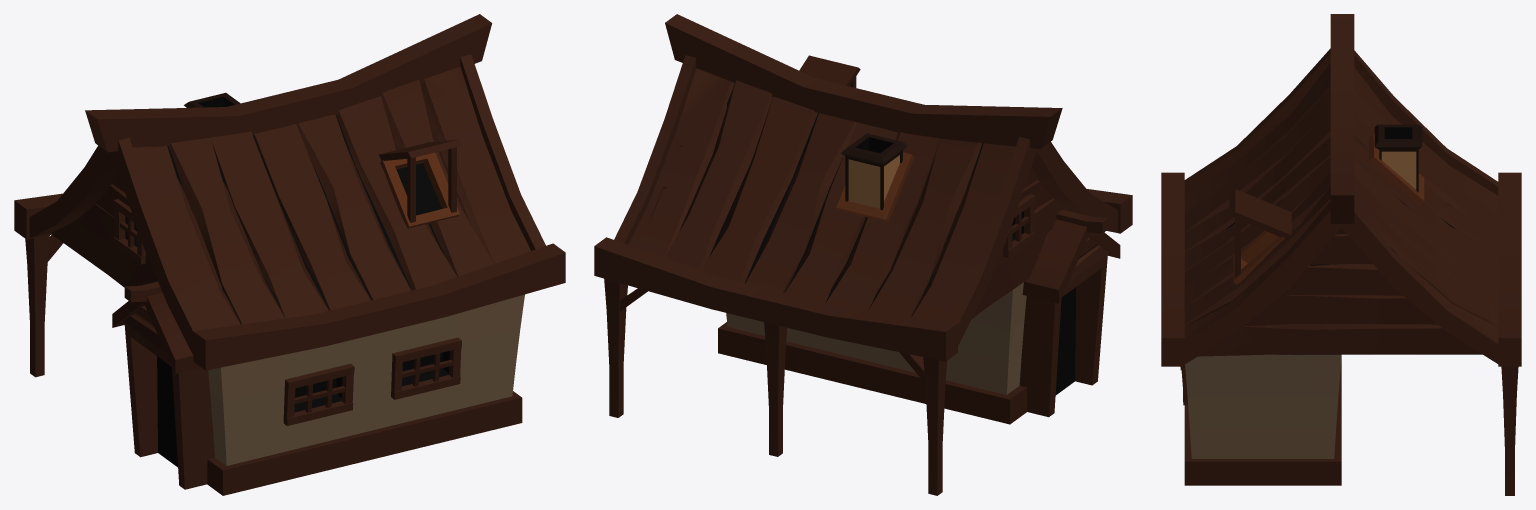
File: SM_Farmhouse.FBX
3 renders of one model, left to right at view 1: azimuth 30°, elevation 25°; view 2: azimuth 150°, elevation 25°; view 3: azimuth 270°, elevation 25°, orthographic. The views are drawn at different scales.
Visible parts, largest first — view 1: Box001; view 2: Box001; view 3: Box001.
Boxes of the visible parts, box(x1,y1,x2,y2) form: Box001: box(14, 14, 565, 495); Box001: box(594, 14, 1132, 495); Box001: box(1161, 14, 1521, 495).
Bounding box in the file's own units: 37.19 × 29.46 × 30.68.
